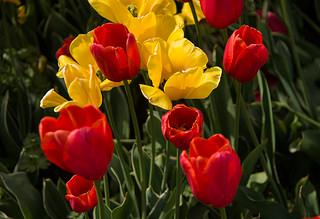tulip: (38, 105, 114, 180), (181, 133, 243, 208), (91, 23, 141, 81), (222, 24, 269, 83), (161, 103, 204, 148), (65, 175, 99, 211)
